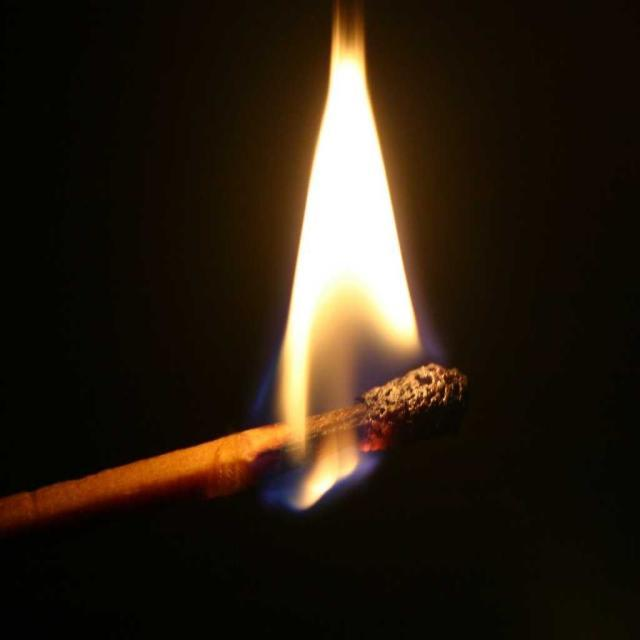Fire: (312, 184, 388, 314)
